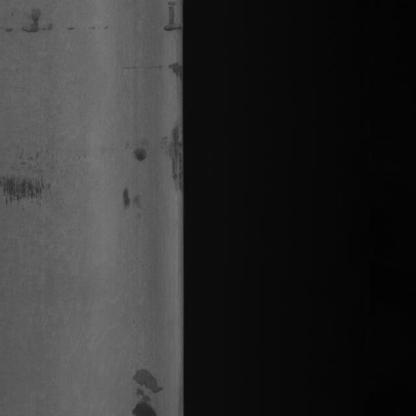oil_spot: (0, 158, 58, 208), (117, 132, 151, 214), (3, 3, 57, 43), (127, 362, 166, 416), (161, 122, 182, 205), (160, 1, 180, 41), (165, 57, 184, 93)
